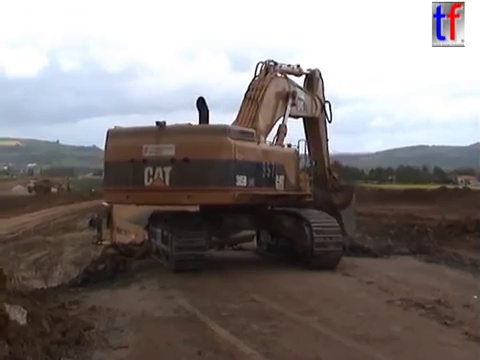excavator: (99, 56, 360, 272), (56, 175, 74, 195)
truck: (86, 199, 257, 276), (27, 178, 62, 199)
